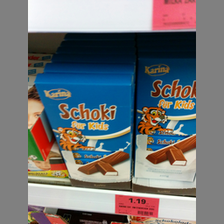chocolate: (34, 72, 134, 190), (136, 54, 196, 182)
